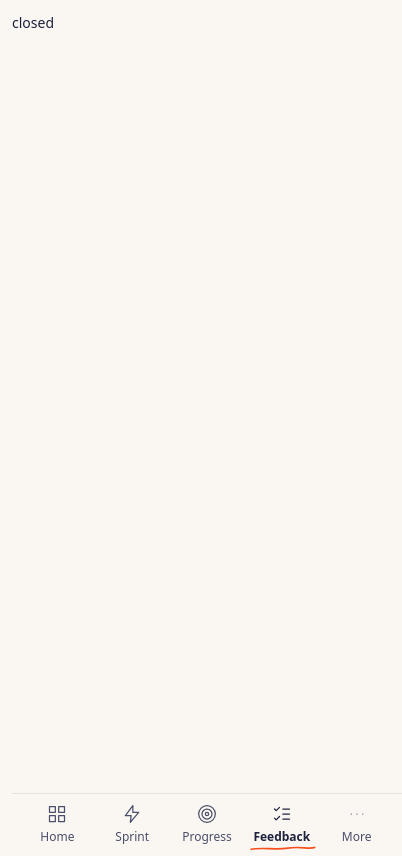
it: keeps the four phone destinations and opens the existing drawer from More
Step 1. Click the button with aria-label "More navigation" → (357, 824), box top-left (319, 802), bottom-right (394, 846)
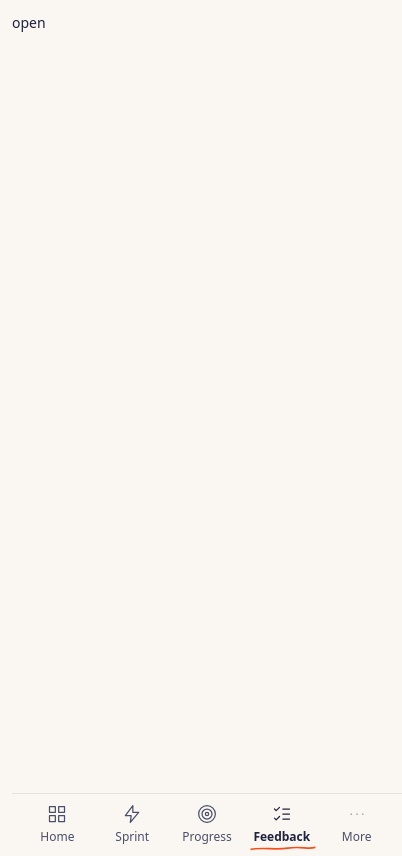
Expected: the text "open" is shown, top-left (12, 13), bottom-right (46, 32)
